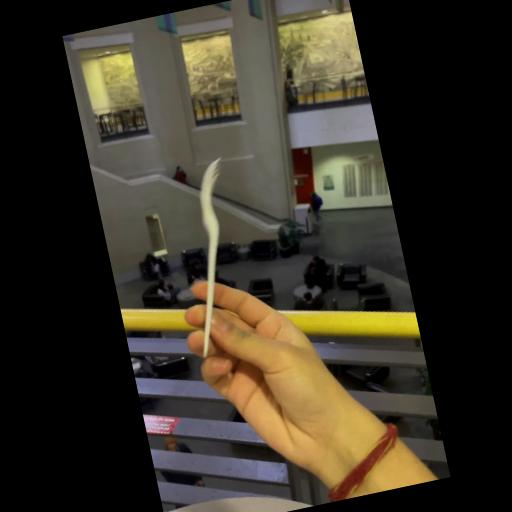utensil: (160, 154, 263, 361)
